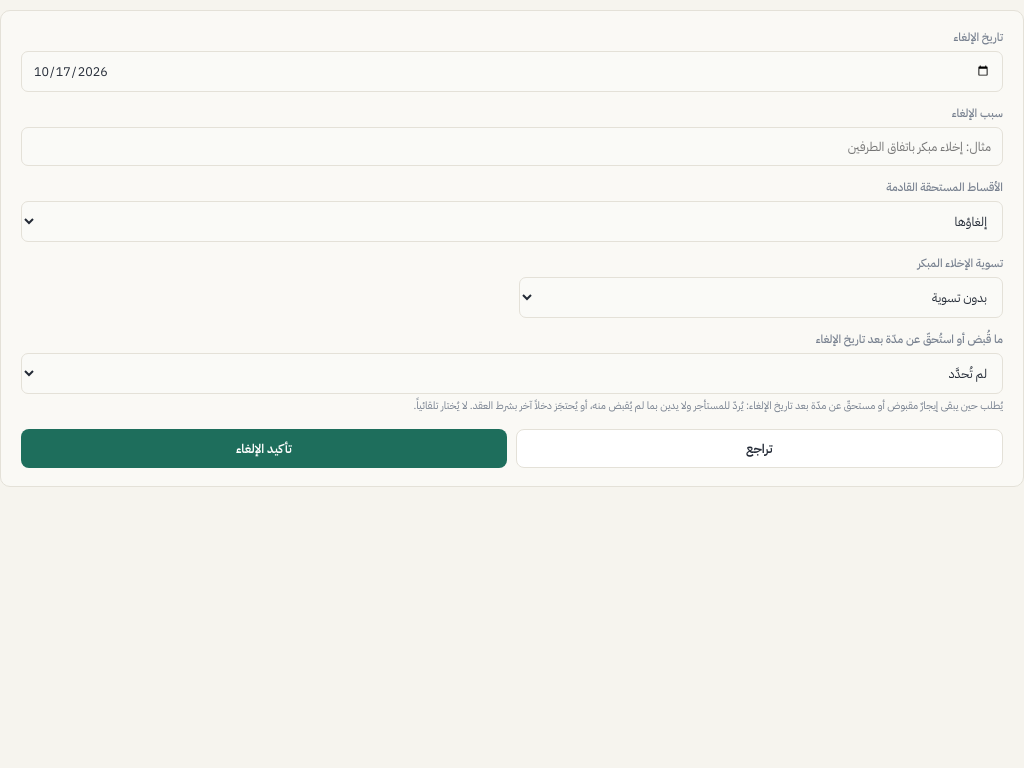
Test case: Upcoming installments in the cancellation form › the settlement preview counts a partly paid installment by its unpaid remainder
Select "كامل المتبقي" in the dropdown below "تسوية الإخلاء المبكر" at x=761, y=298, box [518,277,1003,318]
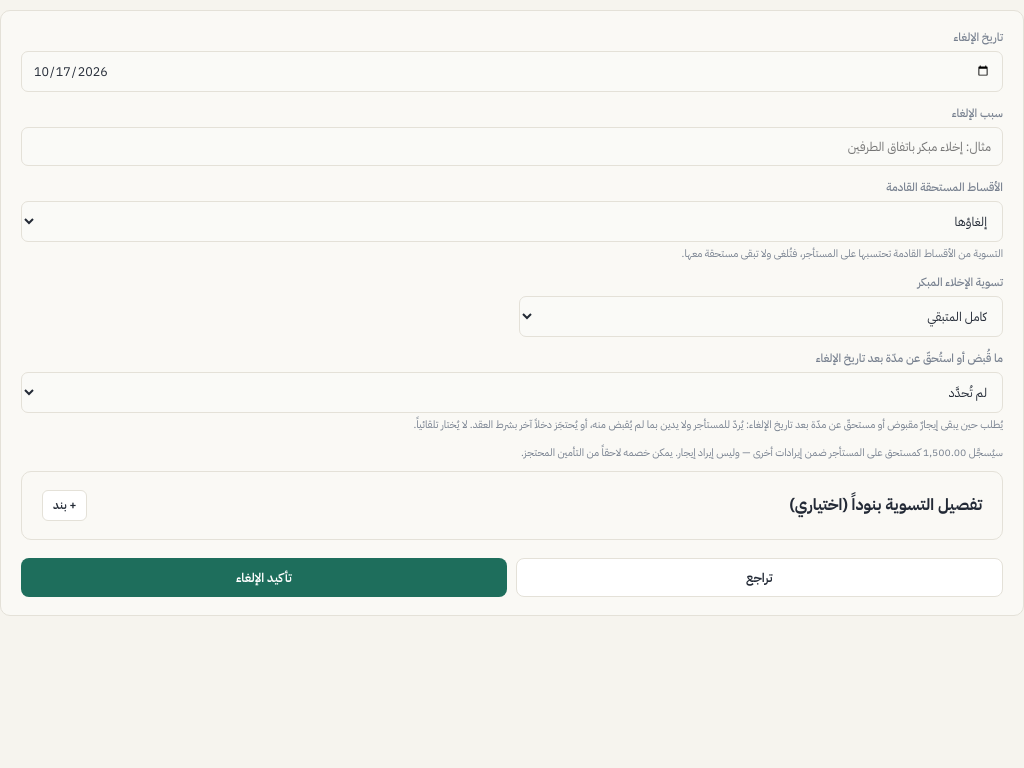
Expected: the text "1,500.00" is shown, [521,445,1003,460]
